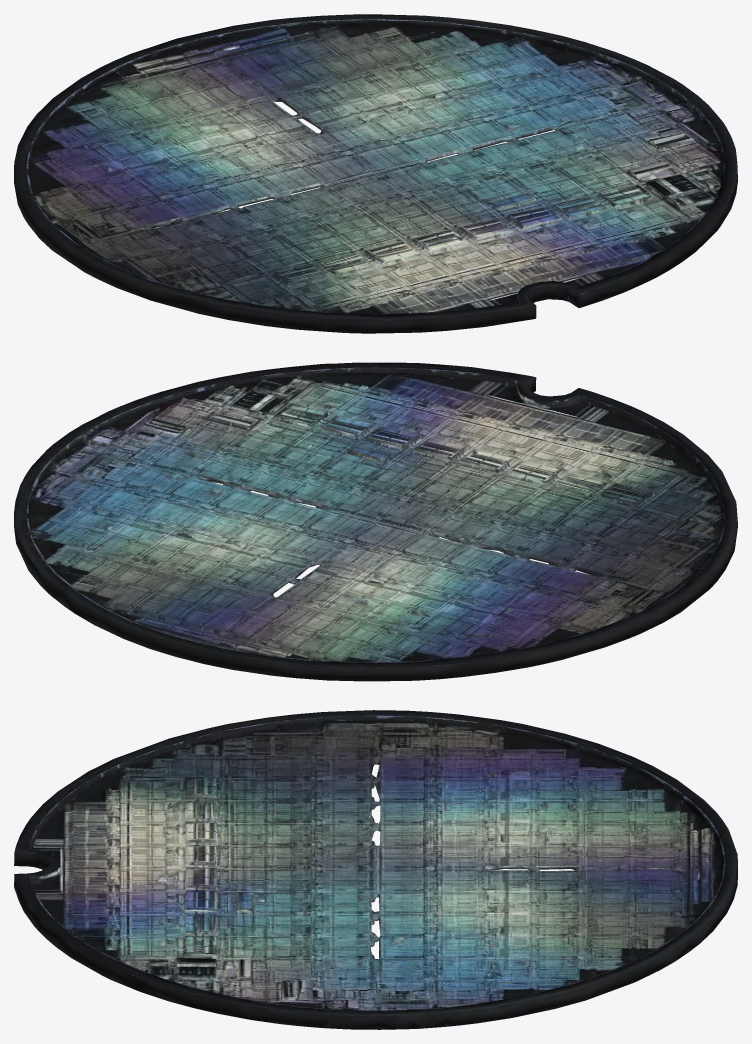
File: Wafer.glb
3 renders of one model, top to bottom at view 1: azimuth 30°, elevation 25°; view 2: azimuth 150°, elevation 25°; view 3: azimuth 270°, elevation 25°, orthographic.
Visible parts, largest first — view 1: Mesh_0; view 2: Mesh_0; view 3: Mesh_0.
Part boxes in pixels (x1,y1,x2,y2): Mesh_0: [14, 14, 737, 333]; Mesh_0: [14, 362, 737, 681]; Mesh_0: [14, 710, 737, 1029].
Size of the model in its own units: 1.9 by 0.0417 by 1.9.
1 material, 1 textured.
